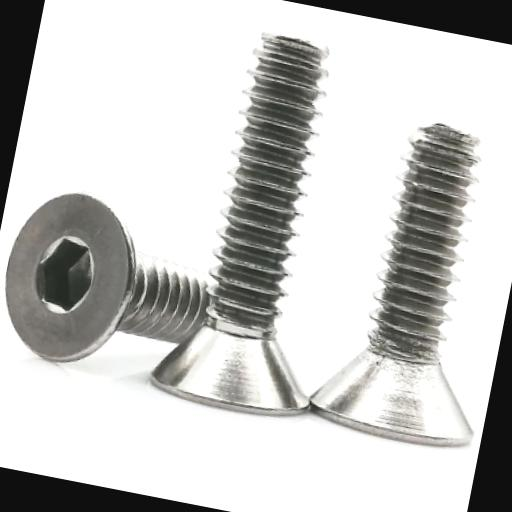Hex-Allen: (0, 180, 154, 375)
